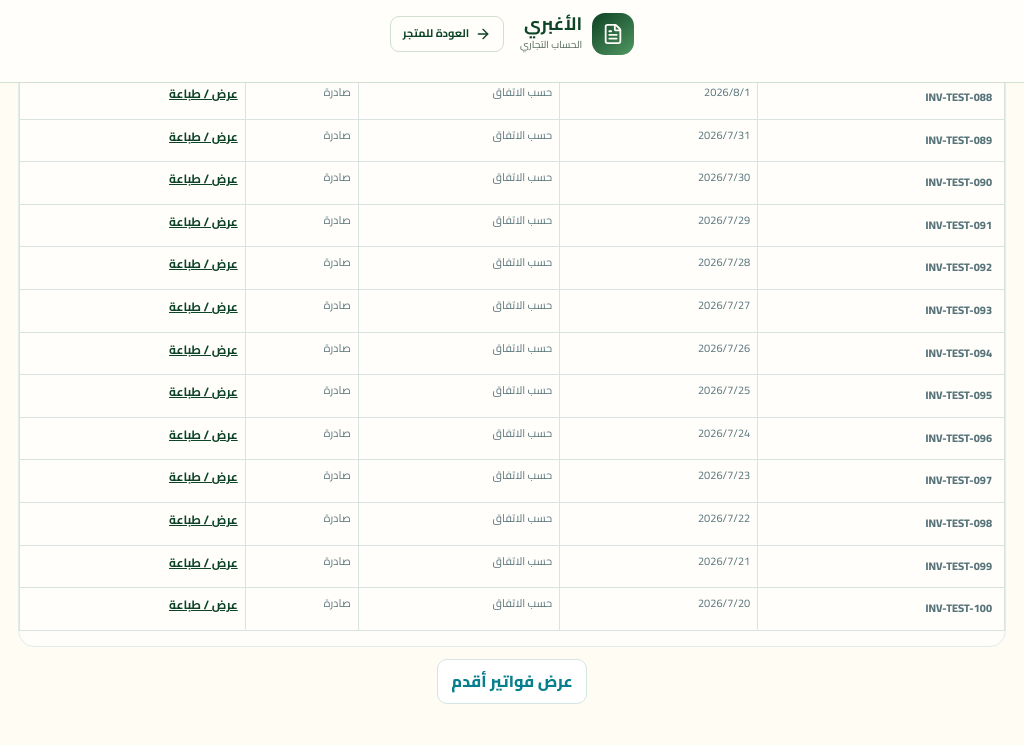
it: customer invoices real route acceptance › retains invoices and retries the cursor after an older-page read fails
(page scrolled)
Click the button "عرض فواتير أقدم". click: click(512, 682)
box: [437, 659, 587, 704]
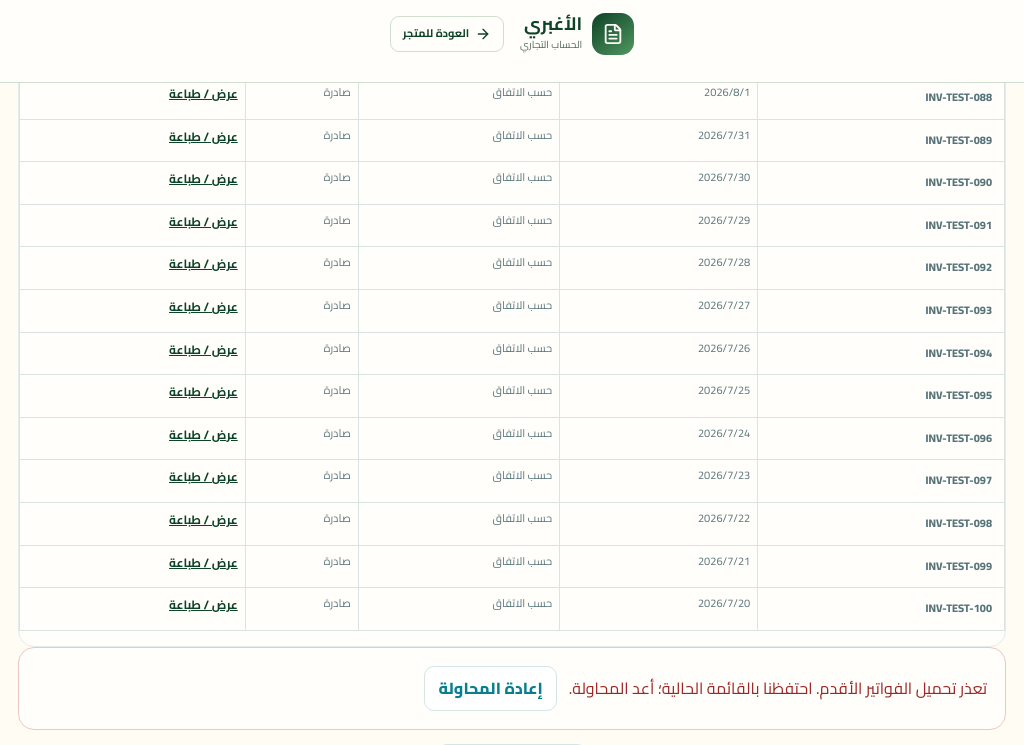
Check: the text "INV-TEST-100" is shown, box [758, 588, 1004, 630]
Check: the message shows "تعذر تحميل الفواتير الأقدم", box [569, 673, 987, 703]
Click the button "إعادة المحاولة". click: click(491, 688)
box: [424, 666, 557, 711]
(page scrolled)
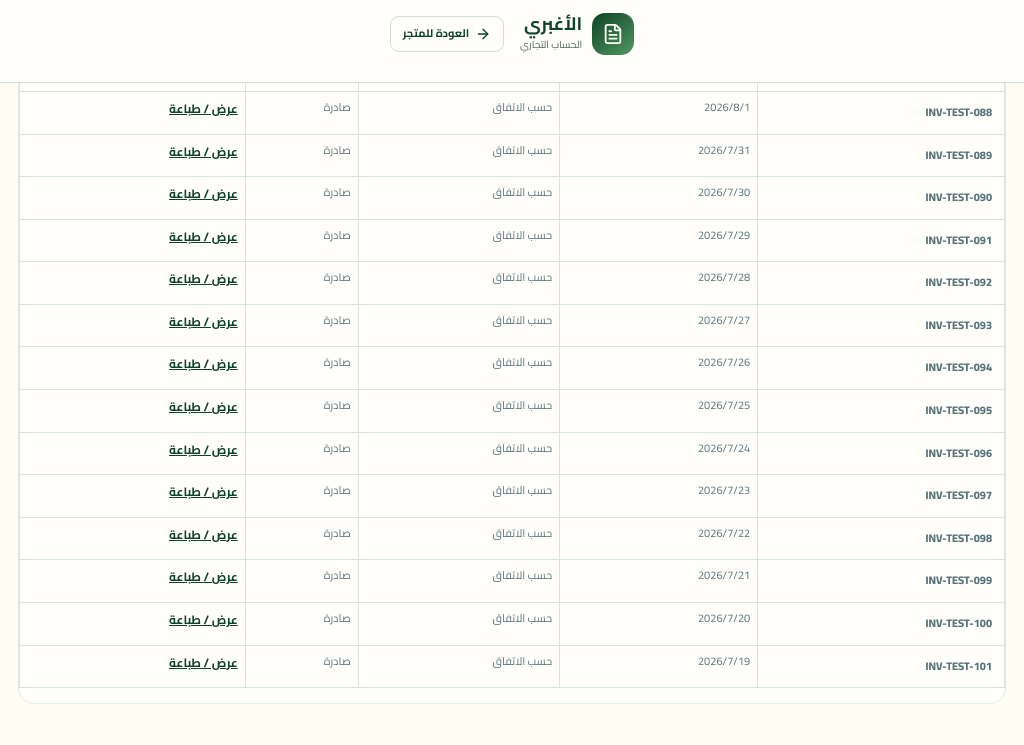
Check: the message is gone
Check: the text "INV-TEST-101" is shown, box [758, 645, 1004, 688]
